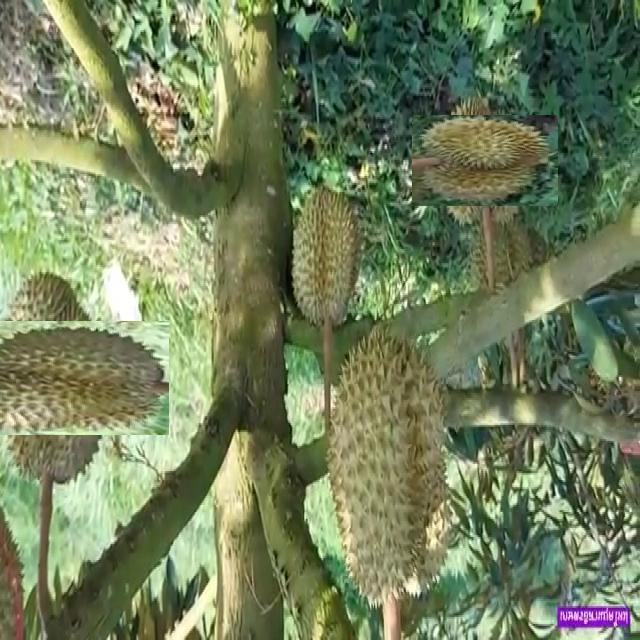durian: (325, 318, 455, 611), (0, 294, 141, 463), (426, 101, 544, 220), (288, 181, 366, 331)
